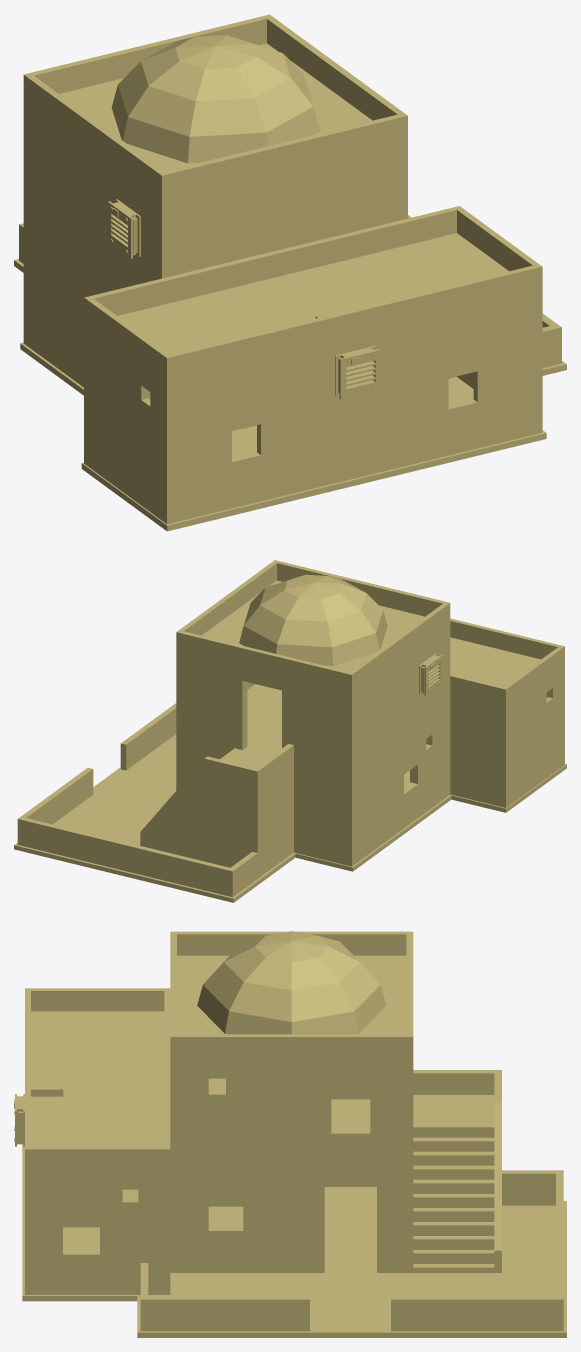
File: DesertBuilding5.fbx
3 views of the same model, one above another, from view 1: azimuth 30°, elevation 25°; view 2: azimuth 150°, elevation 25°; view 3: azimuth 270°, elevation 25° (orthographic). The views are drawn at different scales.
Parts seen in each view (by area): view 1: Cube.009, Sphere.005, Cube.010; view 2: Cube.009, Cube.010, Sphere.005; view 3: Cube.009, Cube.010, Sphere.005.
Part boxes in pixels (x1,y1,x2,y2): Cube.009: (23, 14, 542, 524); Sphere.005: (111, 35, 319, 163); Cube.010: (14, 215, 566, 531); Cube.009: (176, 560, 564, 866); Cube.010: (14, 703, 566, 902); Sphere.005: (239, 574, 387, 666); Cube.009: (14, 931, 413, 1294); Cube.010: (22, 1070, 566, 1337); Sphere.005: (197, 931, 386, 1034).
Size of the model in its own units: 1249 by 830 by 1465.
